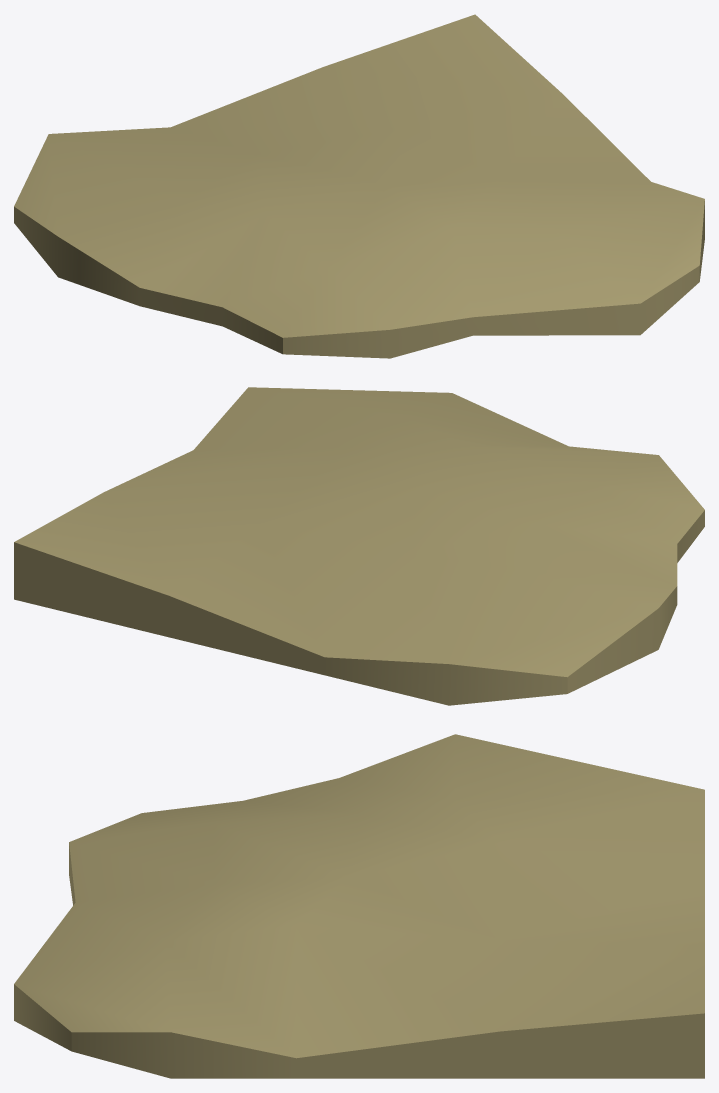
Rendered from sandHalfCubeAngleCorner.fbx.
The picture shows the model from 3 angles, top to bottom: view 1: azimuth 30°, elevation 25°; view 2: azimuth 150°, elevation 25°; view 3: azimuth 270°, elevation 25°; orthographic projection. The views are drawn at different scales.
Parts seen in each view (by area): view 1: sandHalfTileAngleCorner; view 2: sandHalfTileAngleCorner; view 3: sandHalfTileAngleCorner.
Part boxes in pixels (<box>): sandHalfTileAngleCorner: <box>14,14,704,358</box>; sandHalfTileAngleCorner: <box>14,387,704,705</box>; sandHalfTileAngleCorner: <box>14,734,704,1078</box>.
Bounding box in the file's own units: 86.08 × 11.26 × 84.56.
